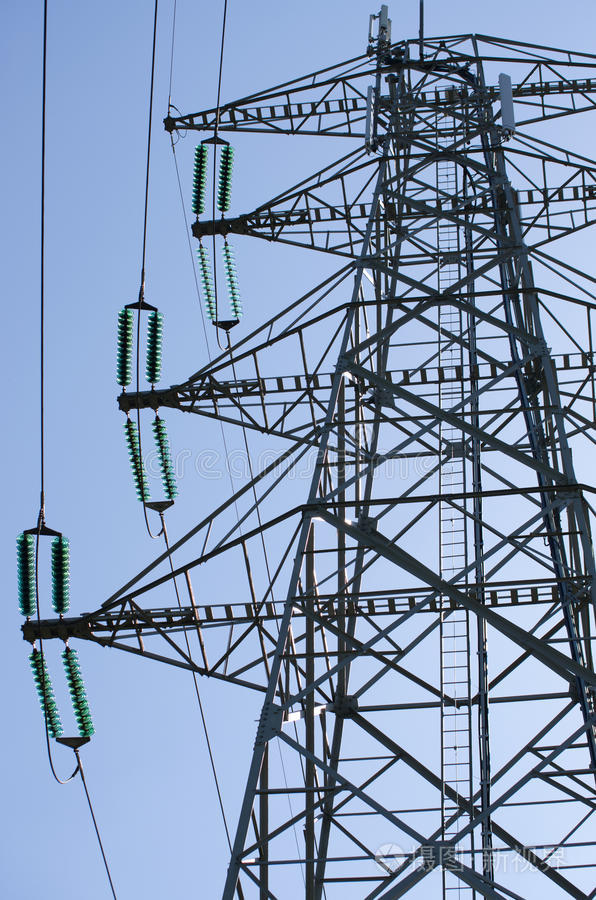insulator: (60, 646, 96, 733), (30, 651, 60, 740), (119, 420, 149, 504), (150, 417, 181, 498), (13, 530, 39, 616), (190, 243, 217, 318), (222, 243, 247, 317), (46, 538, 70, 613), (115, 308, 135, 389), (146, 312, 166, 388), (189, 145, 209, 216), (214, 145, 234, 215)
